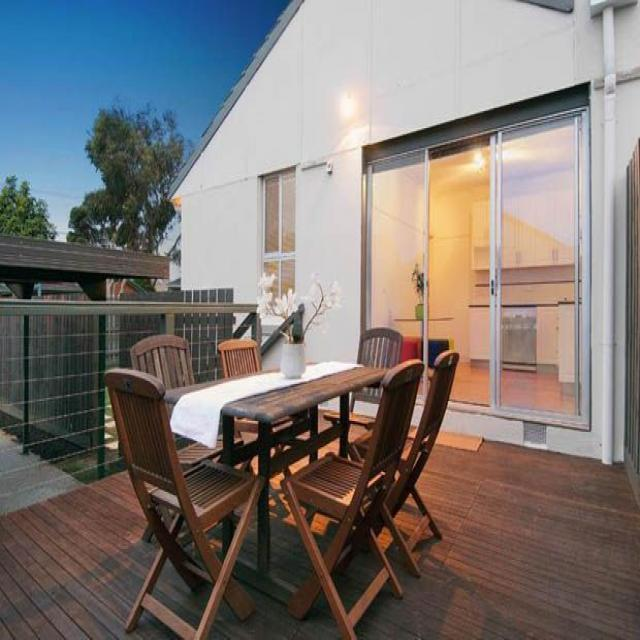table: (150, 344, 411, 477)
